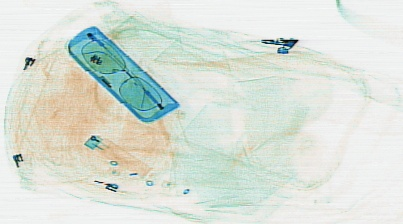lighter: (81, 129, 152, 181)
